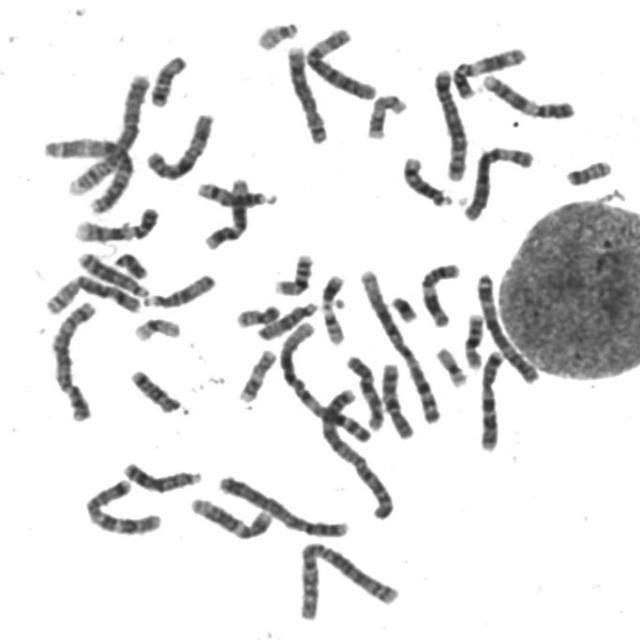A1: (352, 262, 443, 425), (272, 313, 376, 444)
A2: (315, 378, 397, 520), (290, 535, 401, 622)
A3: (470, 266, 541, 385), (37, 129, 135, 215)
B4: (63, 66, 152, 198), (213, 468, 352, 540)
B5: (43, 294, 99, 424), (426, 61, 471, 182)
C10: (340, 348, 385, 432), (374, 356, 416, 440)
C11: (446, 39, 529, 101), (414, 257, 463, 329)
C12: (183, 490, 274, 541), (198, 172, 252, 251)
C6: (455, 138, 537, 223), (300, 20, 378, 101)
C7: (79, 473, 165, 537), (472, 343, 507, 453)
C8: (38, 268, 144, 318), (280, 39, 330, 144)
C9: (476, 68, 577, 121), (68, 201, 162, 244)
D13: (71, 245, 151, 299), (117, 455, 203, 494)
D14: (396, 149, 454, 208), (190, 174, 278, 208)
D15: (137, 267, 217, 310), (251, 295, 321, 342)
E16: (268, 247, 316, 297), (458, 306, 486, 371)
E17: (232, 342, 278, 404), (361, 87, 409, 141)
E18: (124, 363, 182, 414), (144, 48, 188, 108)
F19: (429, 339, 470, 388), (127, 310, 183, 343)
F20: (558, 153, 614, 188), (229, 298, 282, 329)
G21: (384, 288, 420, 324), (314, 274, 345, 314)
G22: (250, 13, 301, 52), (321, 308, 346, 347)
X: (138, 105, 216, 182)
Y: (109, 245, 149, 280)
